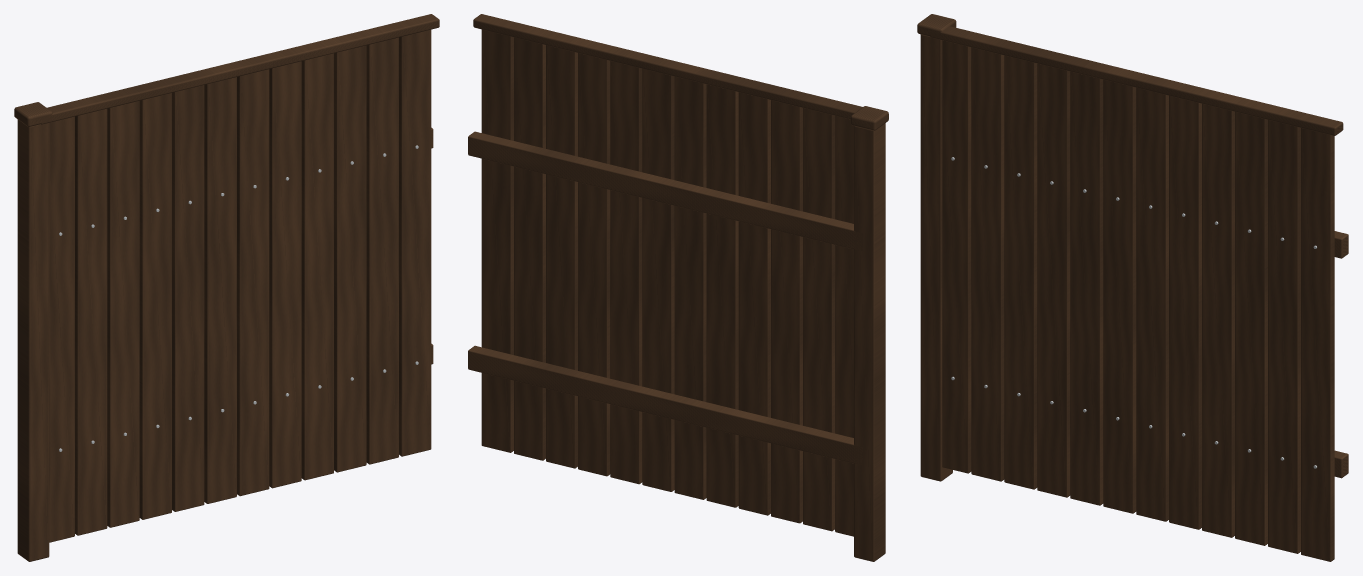
File: cedar-fence-panel.glb
The picture shows the model from 3 angles, left to right: view 1: azimuth 30°, elevation 25°; view 2: azimuth 150°, elevation 25°; view 3: azimuth 330°, elevation 25°; orthographic projection. The views are drawn at different scales.
Visible parts, largest first — view 1: square-section-post, vertical-cedar-board.006, vertical-cedar-board.011, vertical-cedar-board.001, vertical-cedar-board.009, vertical-cedar-board.008, vertical-cedar-board.010, vertical-cedar-board.004, vertical-cedar-board.007, vertical-cedar-board.002, vertical-cedar-board.005, vertical-cedar-board.003 (+3 smaller); view 2: square-section-post, vertical-cedar-board.003, vertical-cedar-board.006, vertical-cedar-board.011, vertical-cedar-board.007, vertical-cedar-board.008, vertical-cedar-board.004, vertical-cedar-board.005, vertical-cedar-board.002, vertical-cedar-board.001, vertical-cedar-board.009, vertical-cedar-board.010 (+5 smaller); view 3: vertical-cedar-board.001, vertical-cedar-board.002, vertical-cedar-board.003, vertical-cedar-board.004, vertical-cedar-board.005, vertical-cedar-board.011, vertical-cedar-board.009, vertical-cedar-board.006, vertical-cedar-board.007, vertical-cedar-board.008, vertical-cedar-board.010, vertical-cedar-board (+3 smaller).
Part boxes in pixels (x1,y1,x2,y2): square-section-post: [17, 119, 49, 561]; vertical-cedar-board.006: [237, 69, 269, 496]; vertical-cedar-board.011: [399, 29, 431, 456]; vertical-cedar-board.001: [75, 108, 107, 535]; vertical-cedar-board.009: [334, 45, 366, 472]; vertical-cedar-board.008: [301, 53, 333, 480]; vertical-cedar-board.010: [366, 37, 398, 464]; vertical-cedar-board.004: [172, 85, 204, 511]; vertical-cedar-board.007: [269, 61, 301, 488]; vertical-cedar-board.002: [107, 101, 139, 527]; vertical-cedar-board.005: [204, 77, 236, 503]; vertical-cedar-board.003: [139, 93, 171, 519]; square-section-post: [854, 123, 885, 561]; vertical-cedar-board.003: [738, 92, 770, 515]; vertical-cedar-board.006: [642, 68, 674, 491]; vertical-cedar-board.011: [481, 29, 513, 452]; vertical-cedar-board.007: [610, 61, 642, 484]; vertical-cedar-board.008: [578, 53, 610, 476]; vertical-cedar-board.004: [706, 84, 738, 507]; vertical-cedar-board.005: [674, 76, 706, 499]; vertical-cedar-board.002: [771, 100, 802, 523]; vertical-cedar-board.001: [803, 108, 834, 531]; vertical-cedar-board.009: [546, 45, 577, 468]; vertical-cedar-board.010: [514, 37, 545, 460]; vertical-cedar-board.001: [971, 47, 1004, 481]; vertical-cedar-board.002: [1004, 55, 1037, 489]; vertical-cedar-board.003: [1037, 63, 1070, 497]; vertical-cedar-board.004: [1070, 71, 1103, 505]; vertical-cedar-board.005: [1103, 79, 1136, 513]; vertical-cedar-board.011: [1301, 128, 1334, 561]; vertical-cedar-board.009: [1235, 111, 1267, 545]; vertical-cedar-board.006: [1136, 87, 1168, 521]; vertical-cedar-board.007: [1169, 95, 1201, 529]; vertical-cedar-board.008: [1202, 103, 1234, 537]; vertical-cedar-board.010: [1268, 120, 1300, 553]; vertical-cedar-board: [942, 40, 971, 473].
Size of the model in its own units: 1.86 by 1.92 by 0.115.
2 materials, 1 textured.
